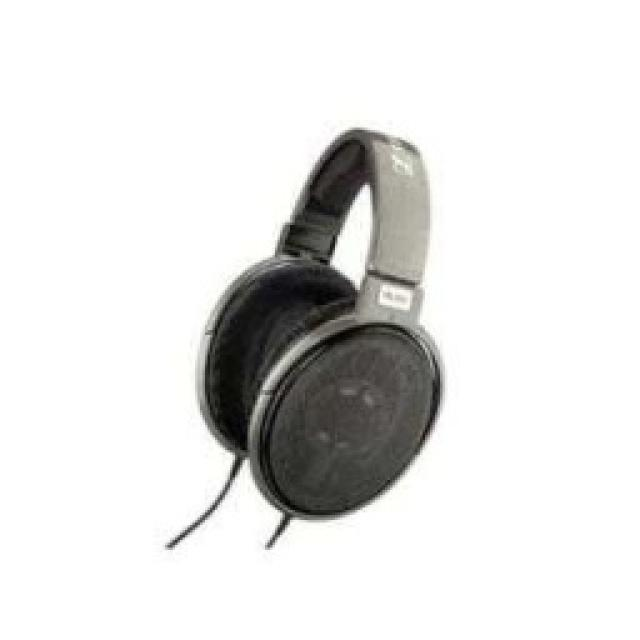headphones: (187, 122, 445, 532)
